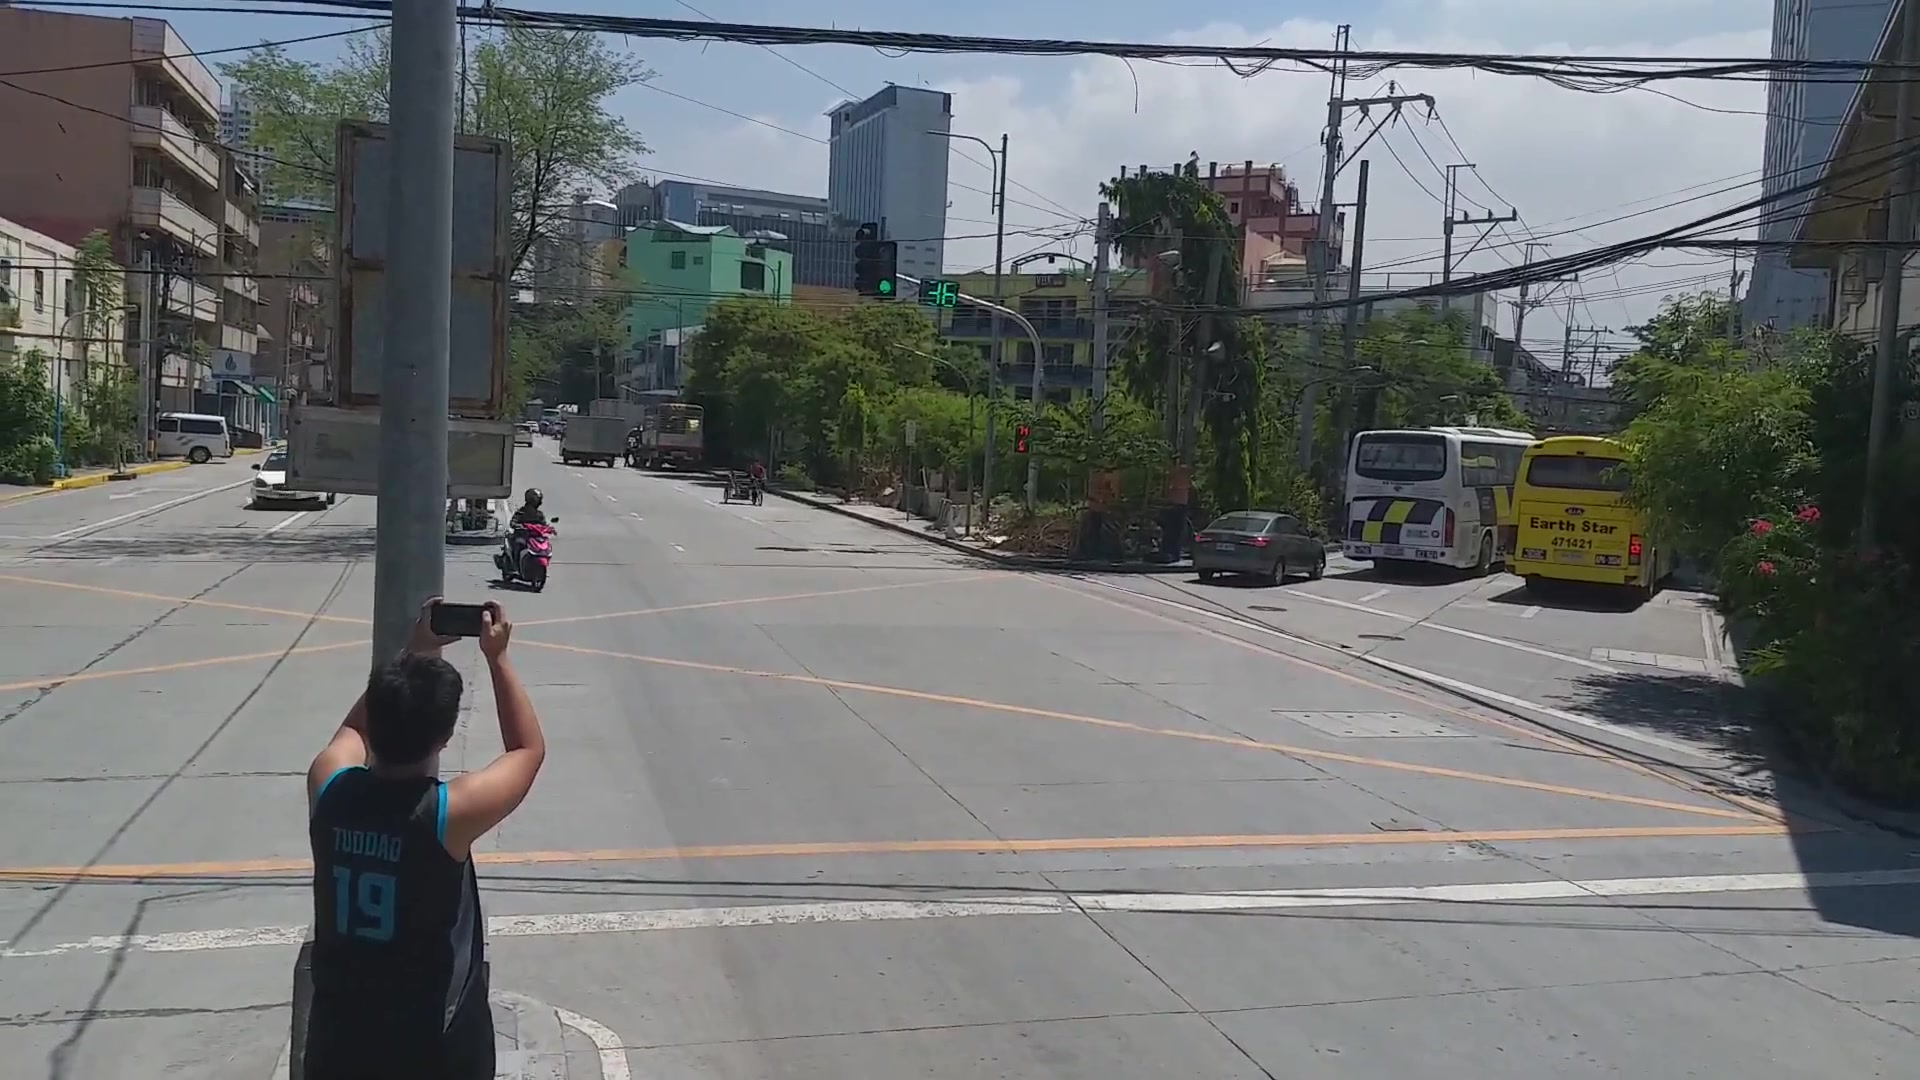truck: (549, 409, 640, 473)
